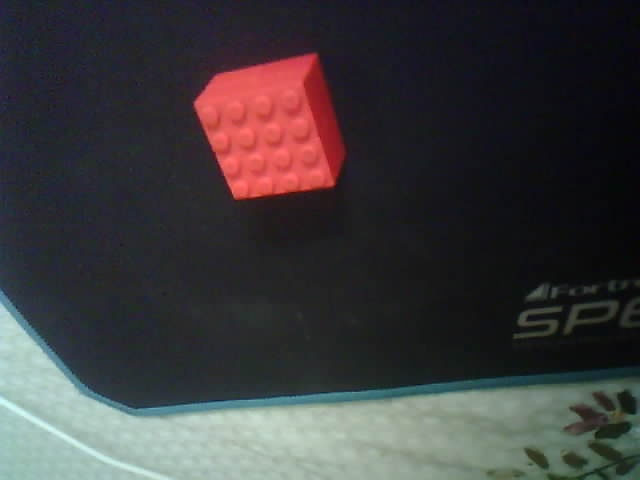lego: (191, 52, 347, 201)
